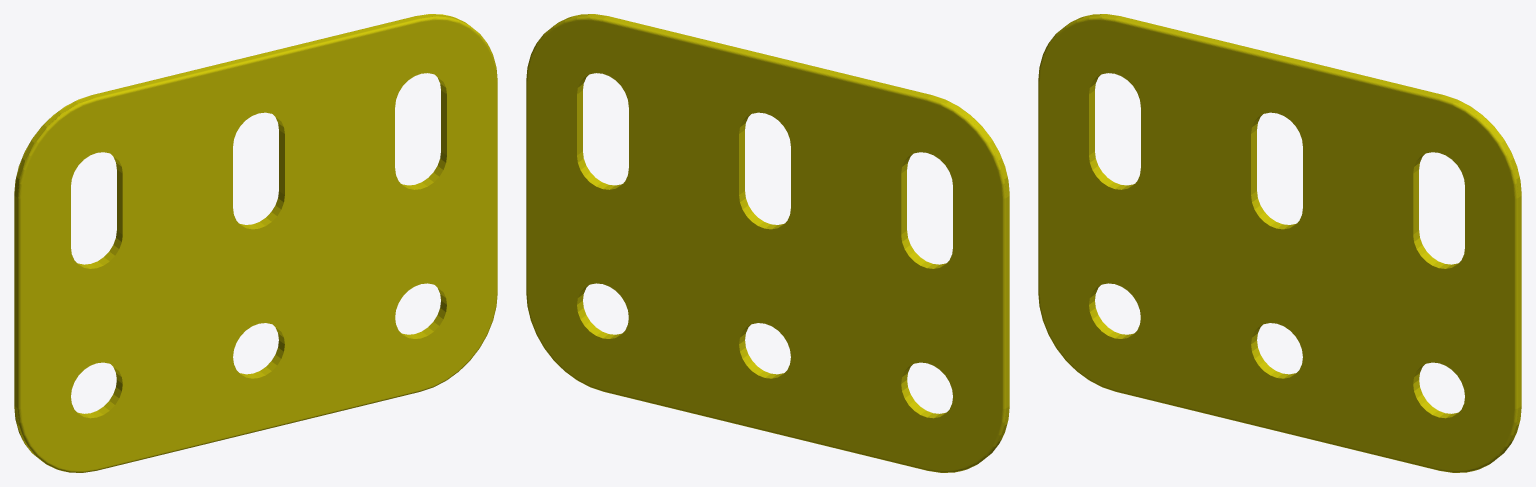
The model's file is TamPhang_2x3_KimLoai_Vang.glb.
3 views of the same model, side by side, from view 1: azimuth 30°, elevation 25°; view 2: azimuth 150°, elevation 25°; view 3: azimuth 330°, elevation 25° (orthographic).
Visible parts, largest first — view 1: defaultobject; view 2: defaultobject; view 3: defaultobject.
Boxes of the visible parts, x1,y1,x2,y2 form: defaultobject: (14,14,497,472); defaultobject: (526,14,1009,472); defaultobject: (1038,14,1521,472).
Bounding box in the file's own units: 124 × 91.86 × 2.67.
